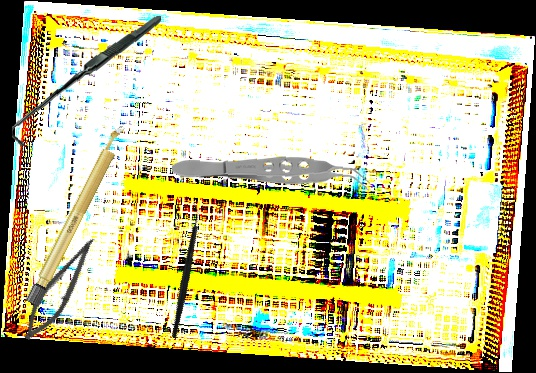Chopper: (127, 201, 241, 340)
Hook Surgical: (11, 8, 162, 153)
Micro Scissor: (16, 228, 102, 348)
Scalpel Handle: (25, 122, 130, 308)
Tissue Forceps: (171, 152, 371, 192)
